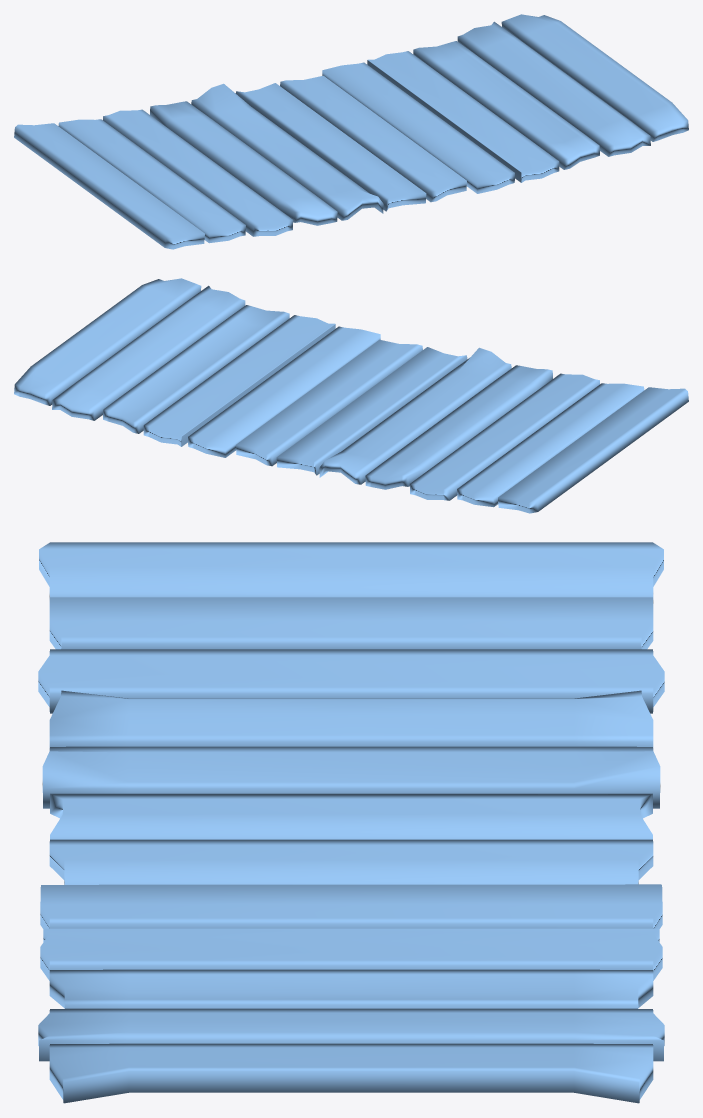
Rendered from Bridge.fbx.
3 renders of one model, top to bottom at view 1: azimuth 30°, elevation 25°; view 2: azimuth 150°, elevation 25°; view 3: azimuth 270°, elevation 25°, orthographic. The views are drawn at different scales.
Visible parts, largest first — view 1: Bridge; view 2: Bridge; view 3: Bridge.
Part boxes in pixels (box(x1,y1,x2,y2)): Bridge: box(14, 14, 688, 249); Bridge: box(14, 278, 688, 513); Bridge: box(38, 542, 664, 1103).
Size of the model in its own units: 694 by 38.44 by 356.
